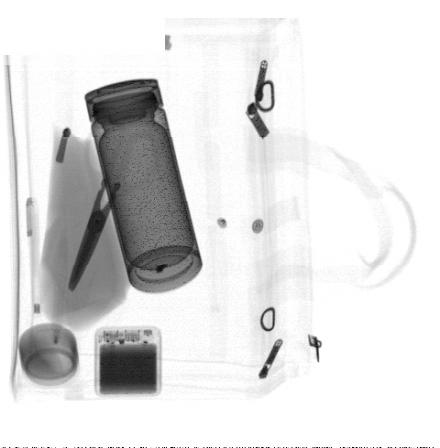Powerbank: (91, 325, 163, 398)
Scissors: (65, 115, 161, 290)
